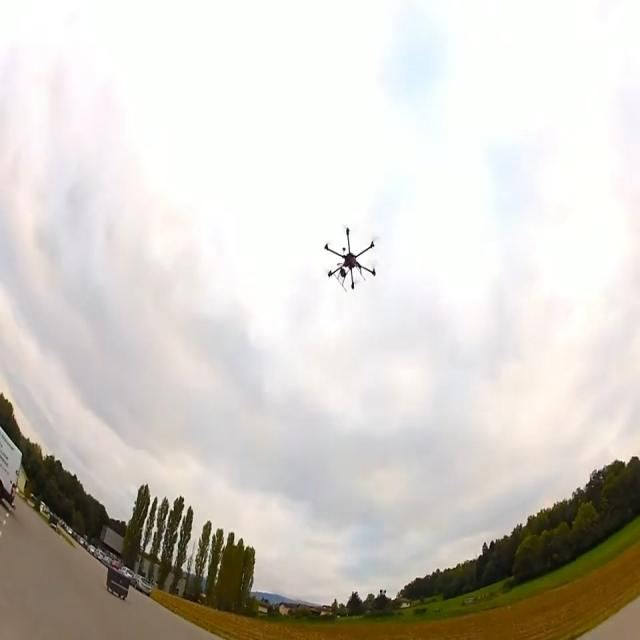drone: (323, 226, 376, 290)
